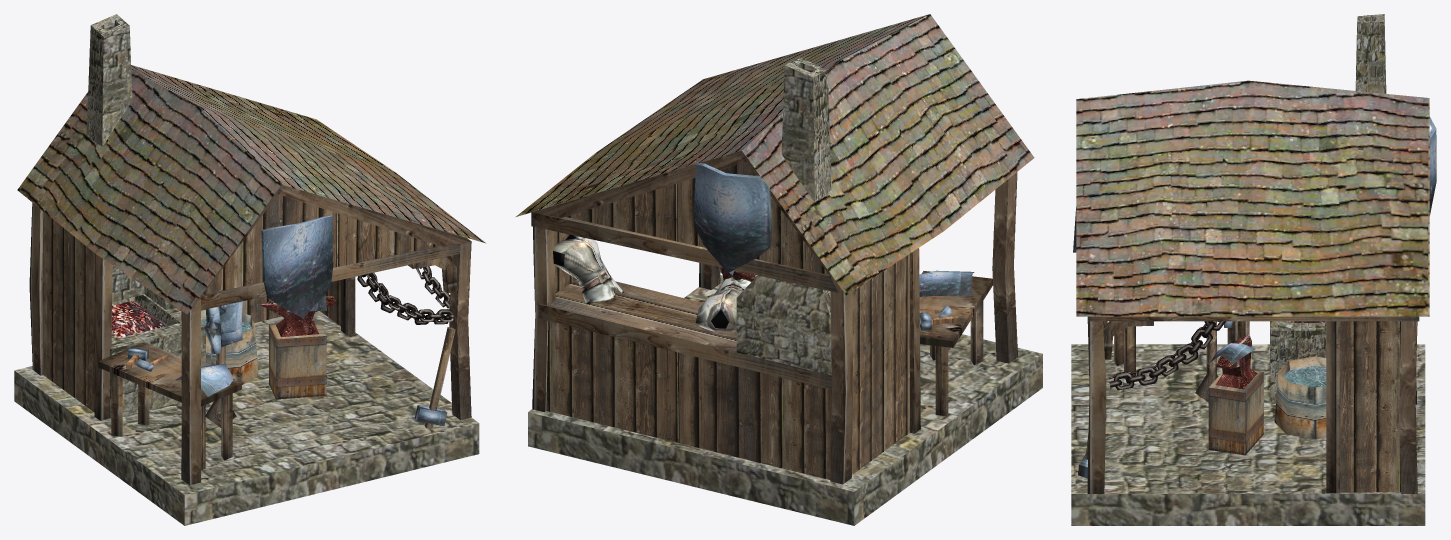
File: building_armourer.glb
The picture shows the model from 3 angles, left to right: view 1: azimuth 30°, elevation 25°; view 2: azimuth 150°, elevation 25°; view 3: azimuth 270°, elevation 25°; orthographic projection. The views are drawn at different scales.
Visible parts, largest first — view 1: building_armourer; view 2: building_armourer; view 3: building_armourer.
Boxes of the visible parts, box(x1,y1,x2,y2) form: building_armourer: box(14, 14, 486, 525); building_armourer: box(516, 14, 1042, 525); building_armourer: box(1071, 14, 1436, 525).
Size of the model in its own units: 4.43 by 5.2 by 4.35.
Materials: 12 (12 with a texture image).
